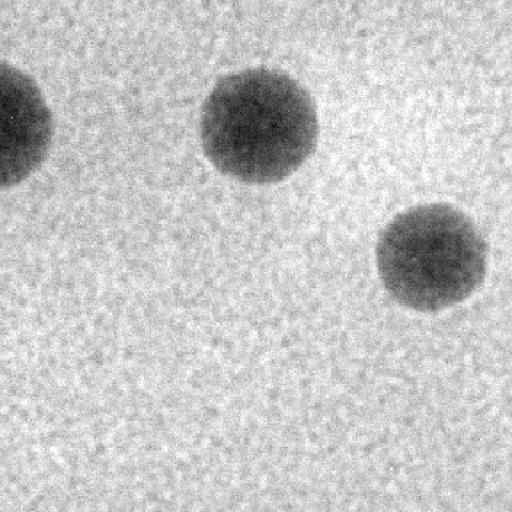Nanoparticles: (194, 64, 320, 190), (373, 198, 490, 315), (2, 60, 50, 196)
